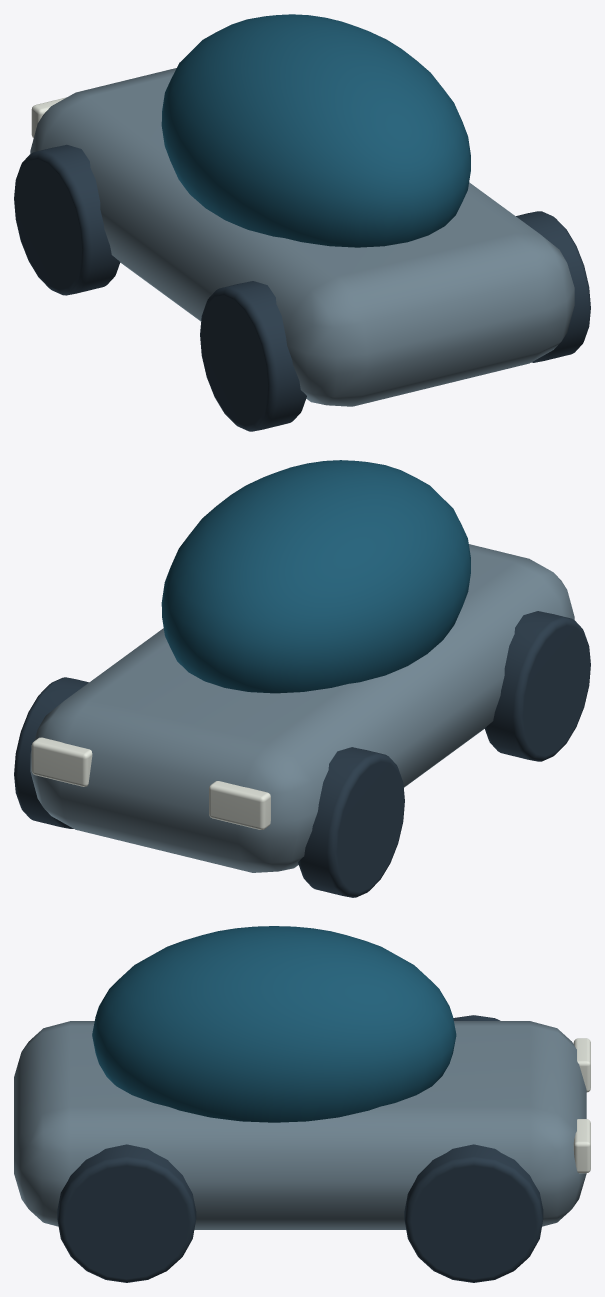
The model's file is TrafficCar.fbx.
The picture shows the model from 3 angles, top to bottom: view 1: azimuth 30°, elevation 25°; view 2: azimuth 150°, elevation 25°; view 3: azimuth 270°, elevation 25°; orthographic projection. The views are drawn at different scales.
Parts seen in each view (by area): view 1: Car body, Glass cabin, Wheel, Wheel.001, Wheel.002; view 2: Car body, Glass cabin, Wheel.001, Wheel, Wheel.003, Headlamp, Headlamp.001; view 3: Car body, Glass cabin, Wheel.003, Wheel.002, Headlamp.001, Headlamp.
Part boxes in pixels (x1,y1,x2,y2): Car body: (30,68,574,406); Glass cabin: (161,14,470,247); Wheel: (200,281,306,431); Wheel.001: (14,144,120,295); Wheel.002: (516,211,590,362); Car body: (30,544,574,872); Glass cabin: (161,460,470,693); Wheel.001: (298,747,404,897); Wheel: (484,611,590,761); Wheel.003: (14,677,88,828); Headlamp: (209,781,270,829); Headlamp.001: (31,737,92,786); Car body: (14,1021,586,1229); Glass cabin: (92,926,456,1122); Wheel.003: (404,1144,543,1282); Wheel.002: (57,1144,196,1282); Headlamp.001: (573,1119,590,1173); Headlamp: (573,1038,590,1092).
Size of the model in its own units: 80 by 69 by 133.
